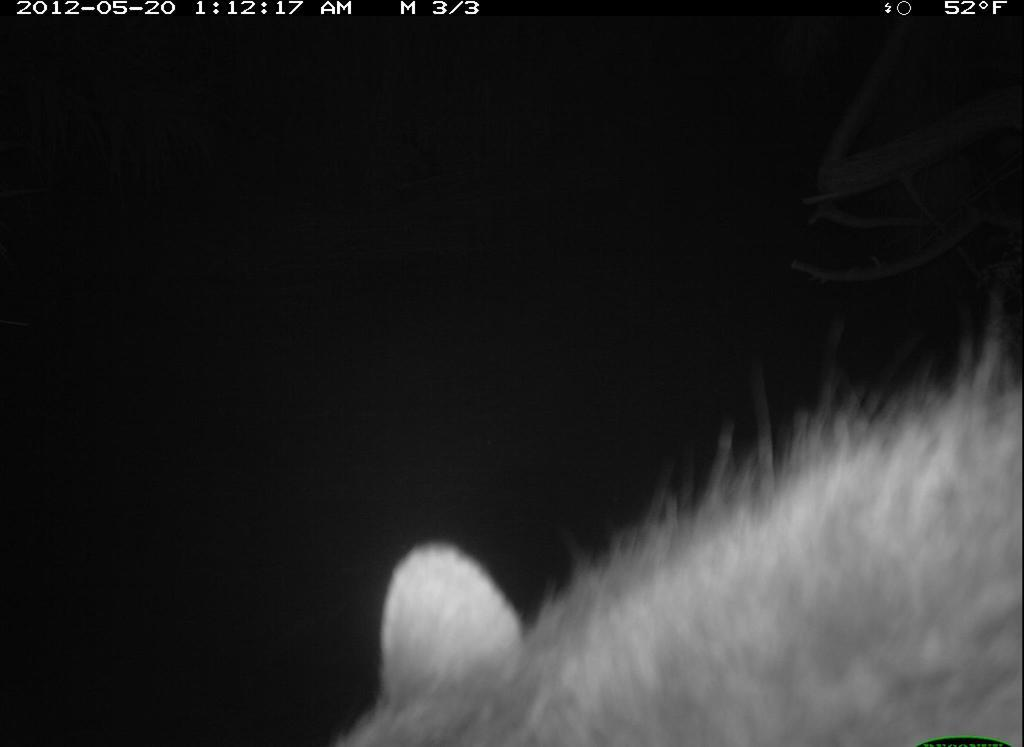raccoon: (340, 304, 1023, 740)
